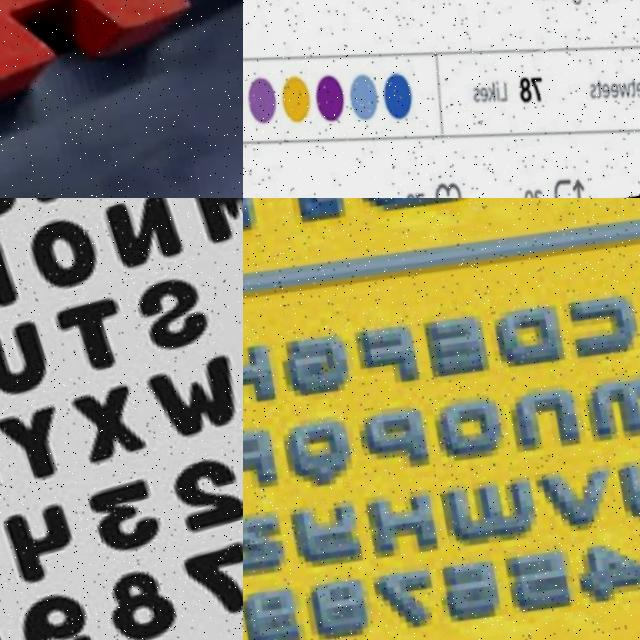0: (0, 604, 20, 640), (522, 178, 540, 198)
2: (167, 437, 243, 530)
3: (86, 461, 173, 551), (532, 177, 550, 198)
4: (1, 488, 84, 581)
7: (185, 530, 243, 615), (529, 65, 549, 95), (414, 182, 432, 198)
8: (100, 553, 183, 640), (517, 65, 538, 96), (405, 183, 421, 198)
9: (15, 575, 101, 640)
A: (0, 0, 174, 134)
Z: (0, 0, 243, 40)
